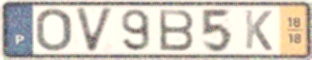5: (199, 7, 235, 54)
9: (119, 8, 153, 53)
B: (157, 8, 196, 52)
K: (243, 8, 274, 52)
O: (34, 7, 74, 53)
V: (73, 6, 116, 55)
